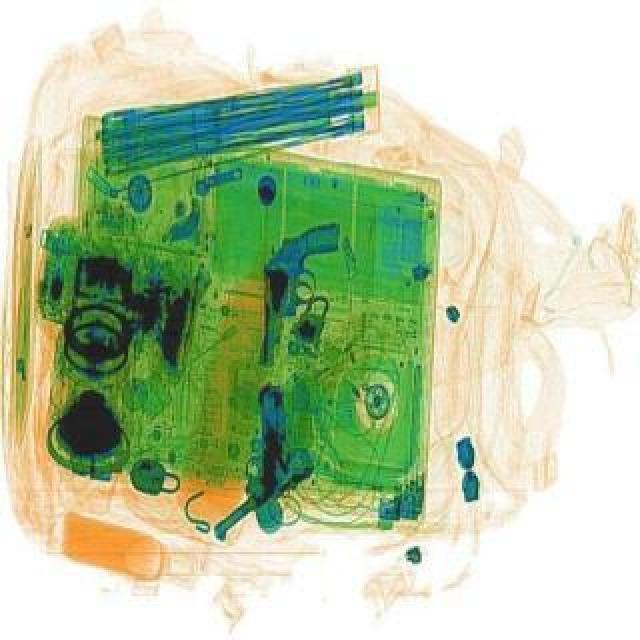gun: (152, 378, 336, 540), (260, 220, 340, 364)
